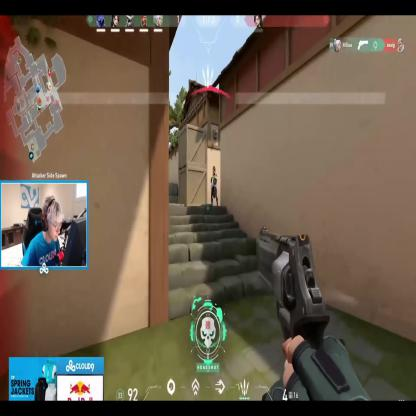enemy: (210, 165, 218, 207)
enemy_head: (212, 166, 216, 175)
